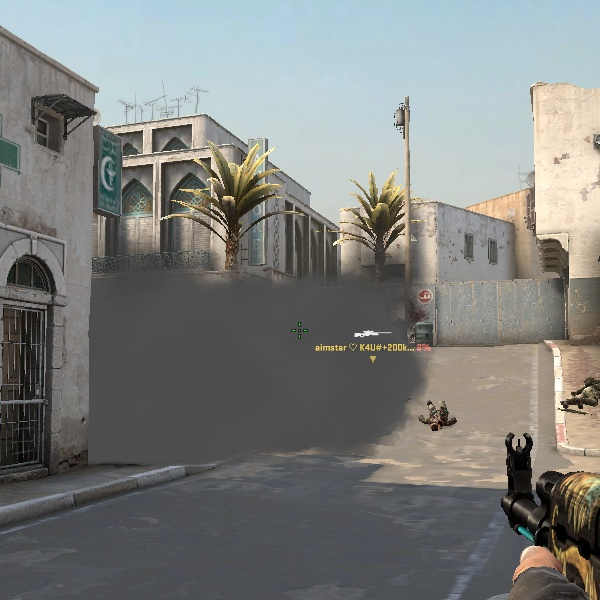t_body: (420, 399, 457, 431)
